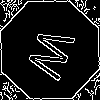W: (25, 25, 85, 85)
